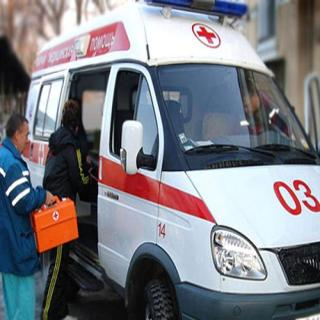Ambulance: (33, 0, 320, 318)
